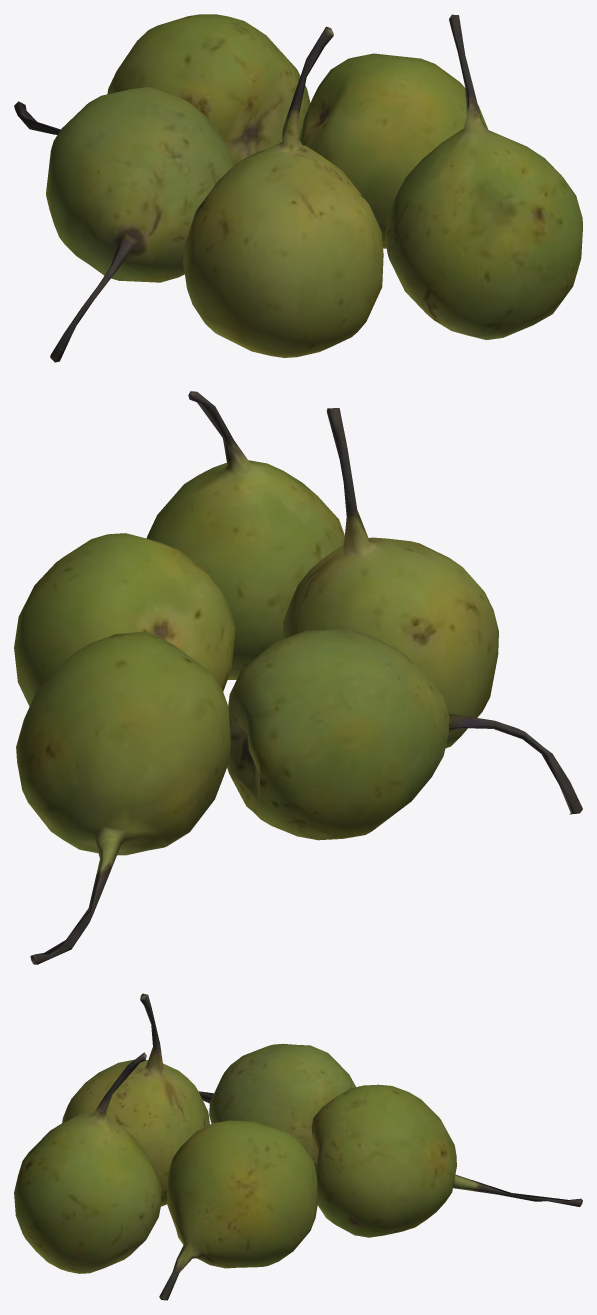
Rendered from food_pears_asian_01.glb.
3 renders of one model, top to bottom at view 1: azimuth 30°, elevation 25°; view 2: azimuth 150°, elevation 25°; view 3: azimuth 270°, elevation 25°, orthographic. The views are drawn at different scales.
Visible parts, largest first — view 1: food_pears_asian_01_c, food_pears_asian_01_e, food_pears_asian_01_a, food_pears_asian_01_d, food_pears_asian_01_b; view 2: food_pears_asian_01_b, food_pears_asian_01_a, food_pears_asian_01_c, food_pears_asian_01_e, food_pears_asian_01_d; view 3: food_pears_asian_01_d, food_pears_asian_01_b, food_pears_asian_01_e, food_pears_asian_01_a, food_pears_asian_01_c.
Boxes of the visible parts, x1=… form: food_pears_asian_01_c: x1=183, y1=26, x2=383, y2=357; food_pears_asian_01_e: x1=385, y1=14, x2=582, y2=339; food_pears_asian_01_a: x1=46, y1=87, x2=232, y2=362; food_pears_asian_01_d: x1=299, y1=53, x2=488, y2=248; food_pears_asian_01_b: x1=14, y1=14, x2=310, y2=166; food_pears_asian_01_b: x1=16, y1=632, x2=230, y2=964; food_pears_asian_01_a: x1=227, y1=629, x2=582, y2=840; food_pears_asian_01_c: x1=283, y1=408, x2=498, y2=748; food_pears_asian_01_e: x1=146, y1=391, x2=344, y2=679; food_pears_asian_01_d: x1=14, y1=533, x2=235, y2=706; food_pears_asian_01_d: x1=159, y1=1120, x2=317, y2=1300; food_pears_asian_01_b: x1=311, y1=1084, x2=582, y2=1237; food_pears_asian_01_e: x1=14, y1=1052, x2=161, y2=1273; food_pears_asian_01_a: x1=198, y1=1043, x2=355, y2=1167; food_pears_asian_01_c: x1=62, y1=993, x2=209, y2=1206.
Size of the model in its own units: 0.1261 by 0.0709 by 0.1667.
1 material, 1 textured.
